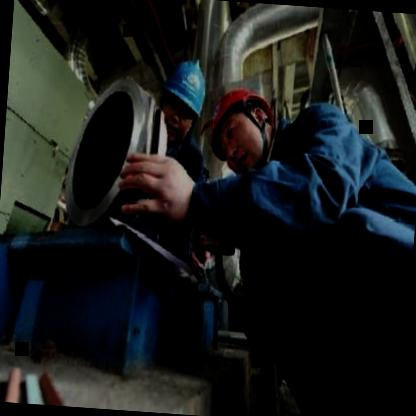helmet: (204, 77, 280, 179), (154, 52, 216, 148)
